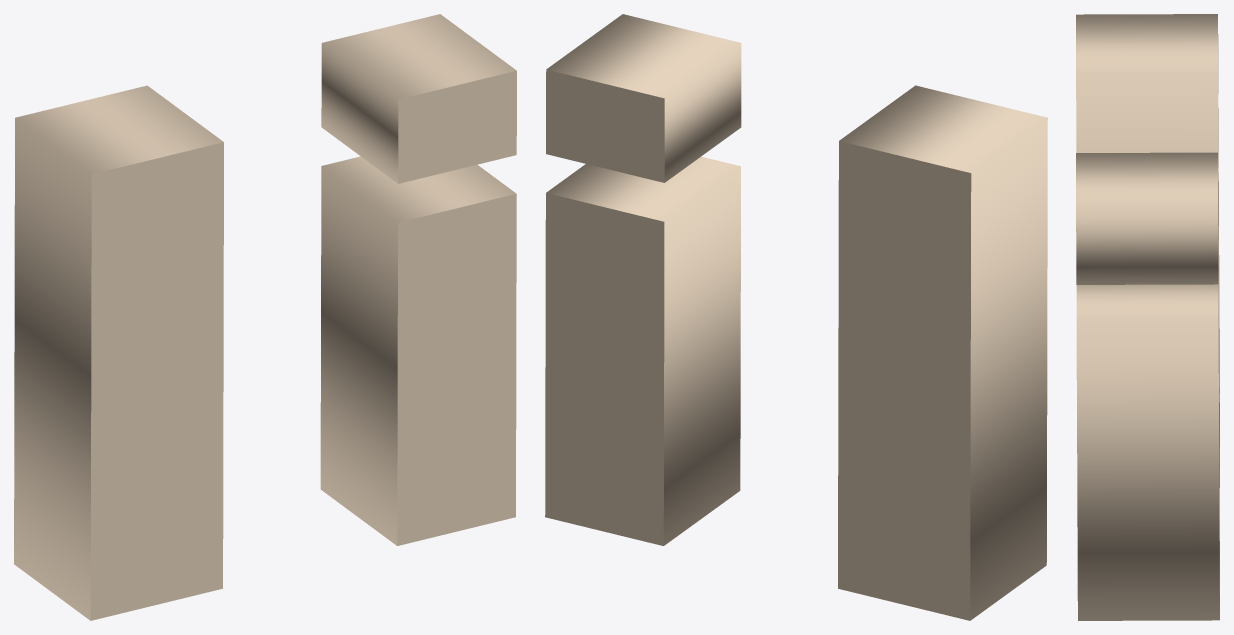
The model's file is letra i.fbx.
3 views of the same model, side by side, from view 1: azimuth 30°, elevation 25°; view 2: azimuth 150°, elevation 25°; view 3: azimuth 270°, elevation 25° (orthographic). The views are drawn at different scales.
Parts seen in each view (by area): view 1: Text; view 2: Text; view 3: Text.
Boxes of the visible parts, bbox=[...] form: Text: bbox=[14, 14, 516, 620]; Text: bbox=[545, 14, 1047, 620]; Text: bbox=[1076, 14, 1219, 620].
Size of the model in its own units: 51.24 by 51.56 by 16.21.
